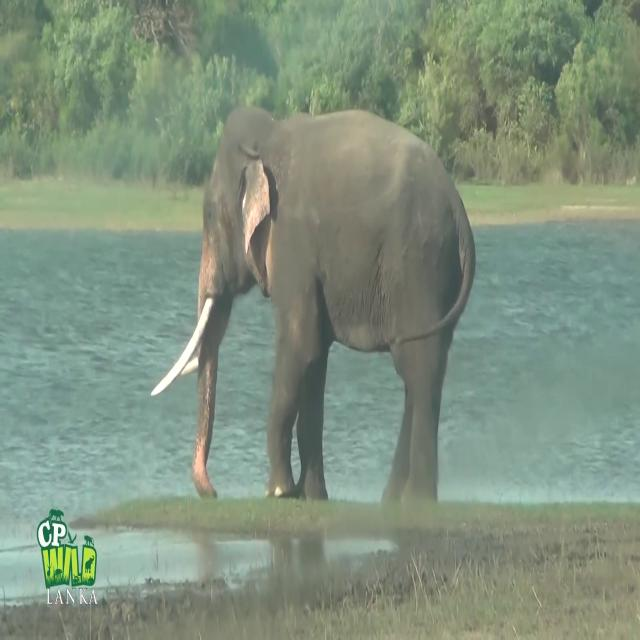Elephant: (150, 104, 476, 504)
